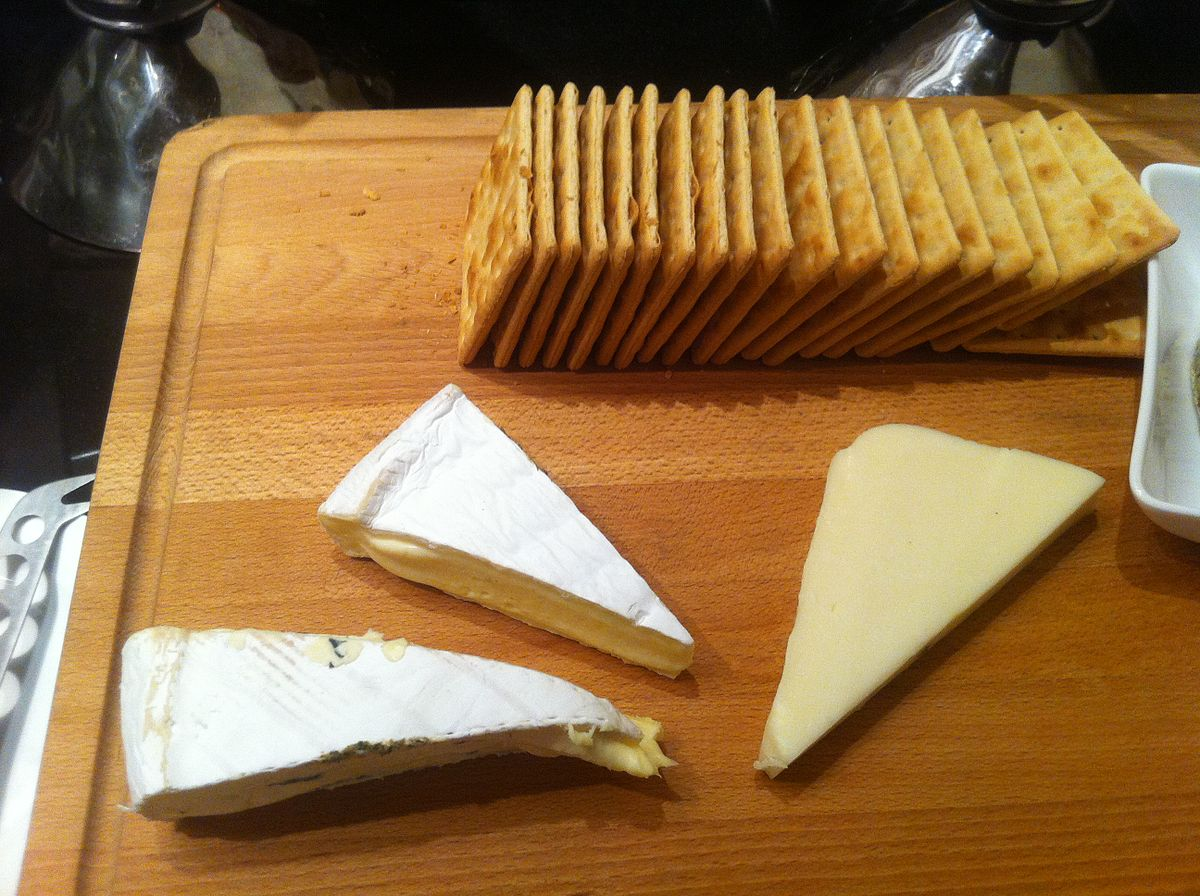cheese: (735, 405, 1092, 801), (107, 637, 689, 813), (331, 407, 692, 681)
